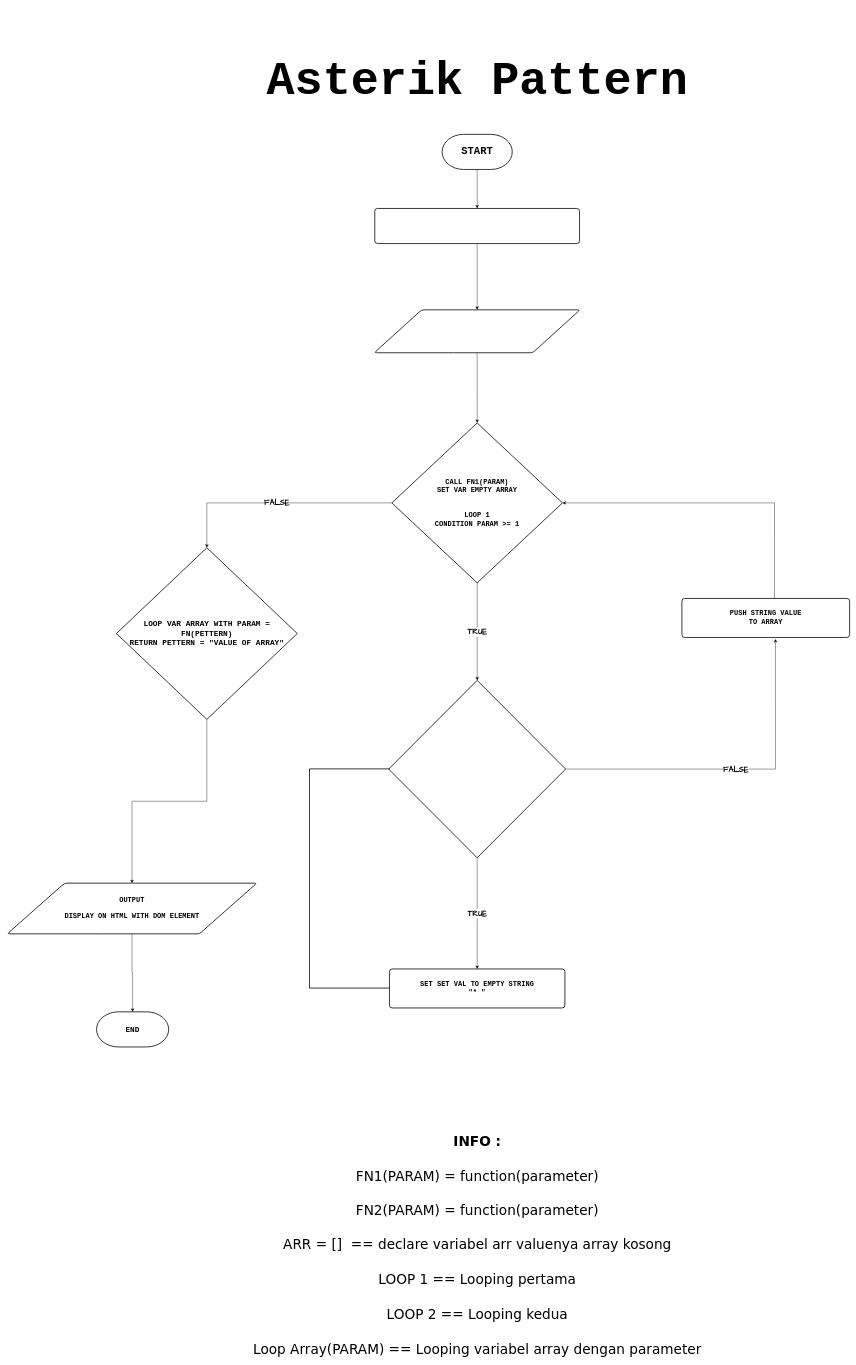
Some shapes in this 856 by 1365 pixel diagram are drawn without their labels. Each missing label, with the centre of its shape:
"INIT FN1(PARAM), ARR = [], LOOP 1, LOOP 2, LOOP ARRAY(PARAM), FN2(PARAM)" goes at pixel 477 226.
"INPUT TYPE NUMBER" goes at pixel 477 331.
"SET VAR EMPTY STRING LOOP 2 CONDITION 2 PARAM >= LOOP INDEX" goes at pixel 477 769.
